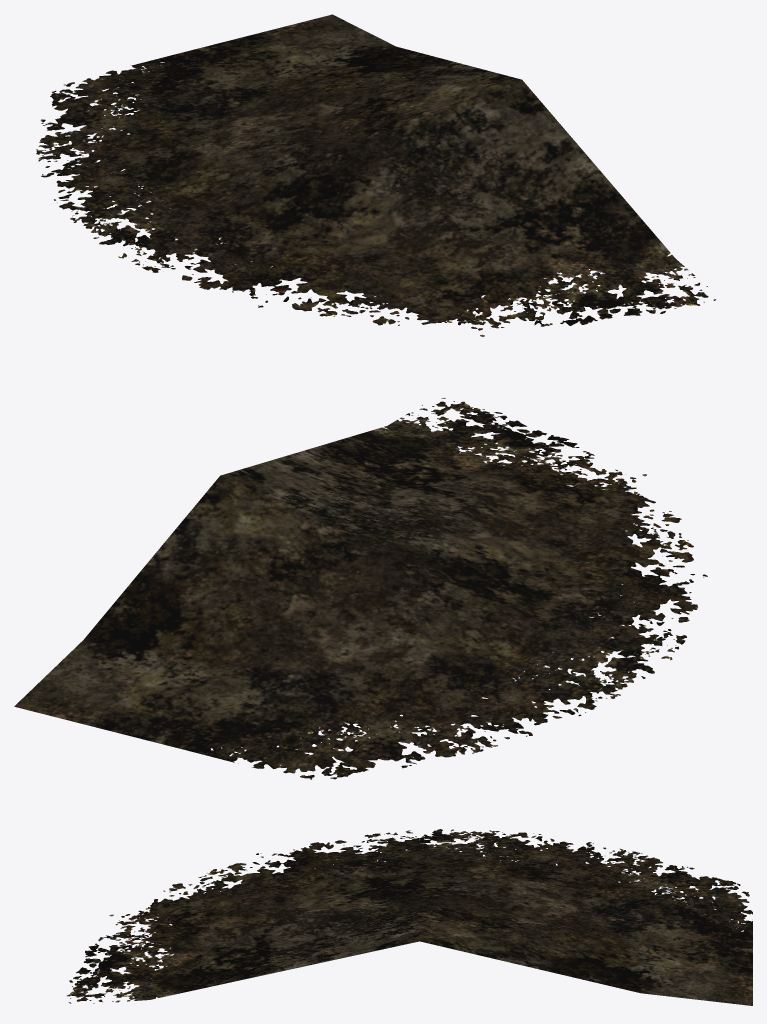
Rendered from soil.fbx.
3 renders of one model, top to bottom at view 1: azimuth 30°, elevation 25°; view 2: azimuth 150°, elevation 25°; view 3: azimuth 270°, elevation 25°, orthographic. The views are drawn at different scales.
Parts seen in each view (by area): view 1: Plane_129; view 2: Plane_129; view 3: Plane_129.
Part boxes in pixels (x1,y1,x2,y2): Plane_129: (36,14,716,336); Plane_129: (14,397,707,779); Plane_129: (67,829,752,1005).
Bounding box in the file's own units: 2.3 × 0.3967 × 3.9.
